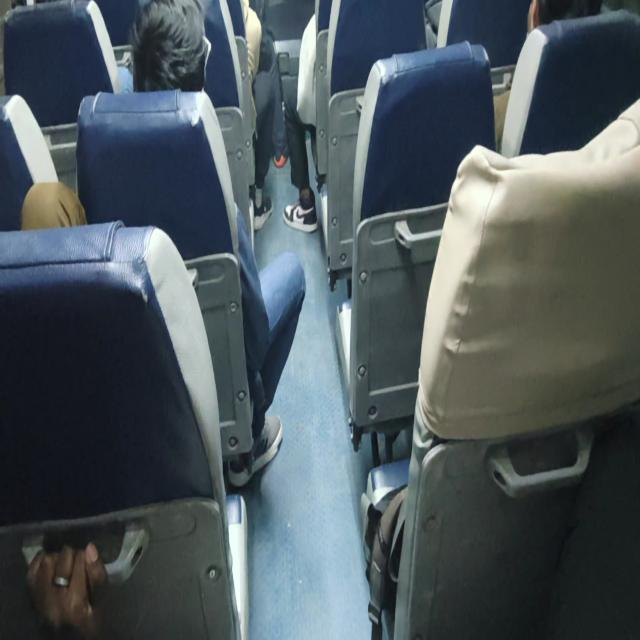person: (21, 1, 306, 487), (492, 0, 602, 151), (23, 540, 110, 638), (128, 0, 210, 92)
